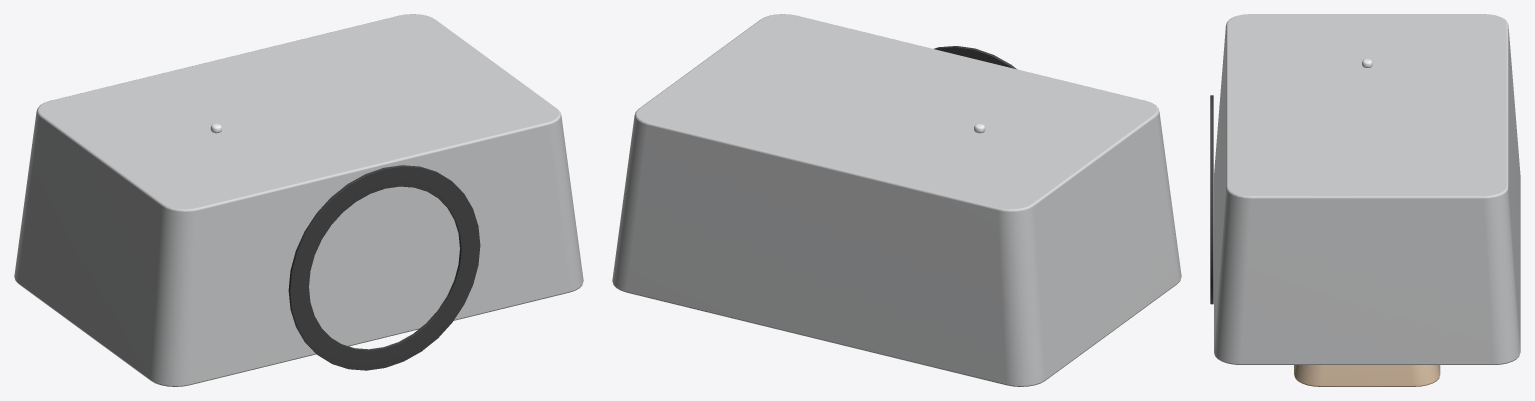
The model's file is sac_demo.glb.
The picture shows the model from 3 angles, left to right: view 1: azimuth 30°, elevation 25°; view 2: azimuth 150°, elevation 25°; view 3: azimuth 270°, elevation 25°; orthographic projection. The views are drawn at different scales.
Visible parts, largest first — view 1: Corps_Central_Strate_2, Cadran_Circulaire_Accent; view 2: Corps_Central_Strate_2, Cadran_Circulaire_Accent; view 3: Corps_Central_Strate_2, Corps_Central_Strate_1, Cadran_Circulaire_Accent.
Boxes of the visible parts, <box> form: Corps_Central_Strate_2: <box>14,14,583,386</box>; Cadran_Circulaire_Accent: <box>288,165,480,370</box>; Corps_Central_Strate_2: <box>612,14,1181,386</box>; Cadran_Circulaire_Accent: <box>934,46,1016,69</box>; Corps_Central_Strate_2: <box>1214,14,1520,364</box>; Corps_Central_Strate_1: <box>1294,365,1440,386</box>; Cadran_Circulaire_Accent: <box>1210,95,1213,304</box>.
Size of the model in its own units: 0.4312 by 0.2001 by 0.2834.
